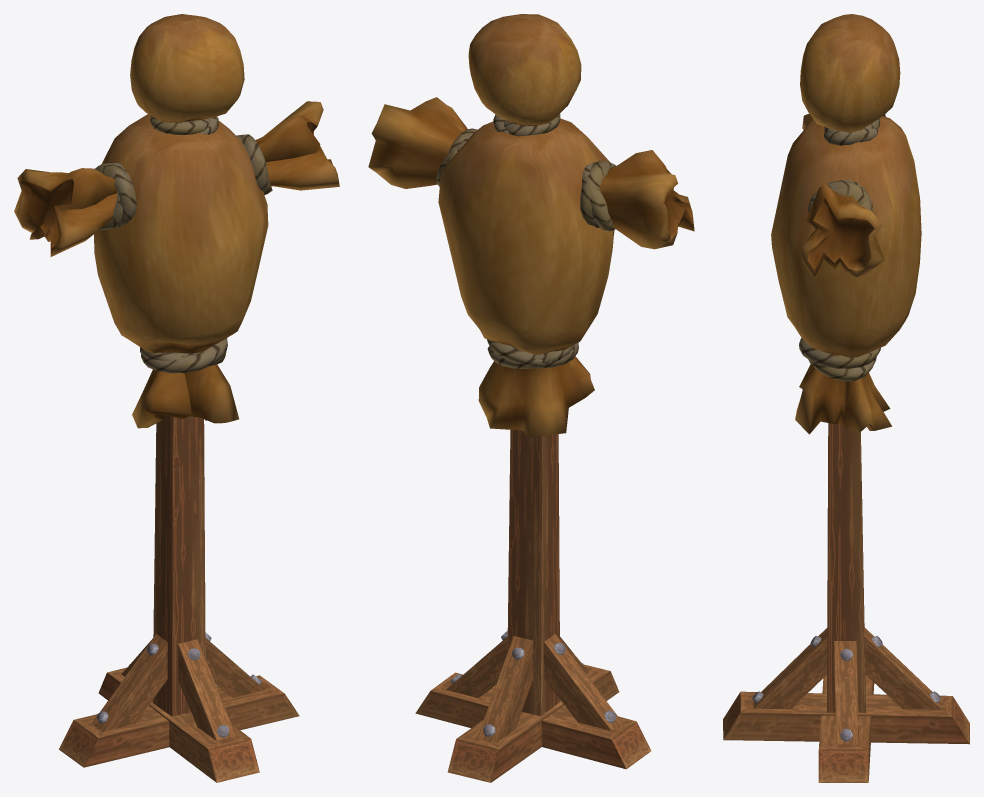
File: Dummy.gltf
3 views of the same model, side by side, from view 1: azimuth 30°, elevation 25°; view 2: azimuth 150°, elevation 25°; view 3: azimuth 270°, elevation 25° (orthographic).
Visible parts, largest first — view 1: Dummy; view 2: Dummy; view 3: Dummy.
Part boxes in pixels (bbox=[...]): Dummy: bbox=[14, 14, 339, 782]; Dummy: bbox=[368, 14, 694, 782]; Dummy: bbox=[723, 14, 969, 782].
Bounding box in the file's own units: 0.8085 × 1.86 × 0.5846.
Materials: 3 (3 with a texture image).
